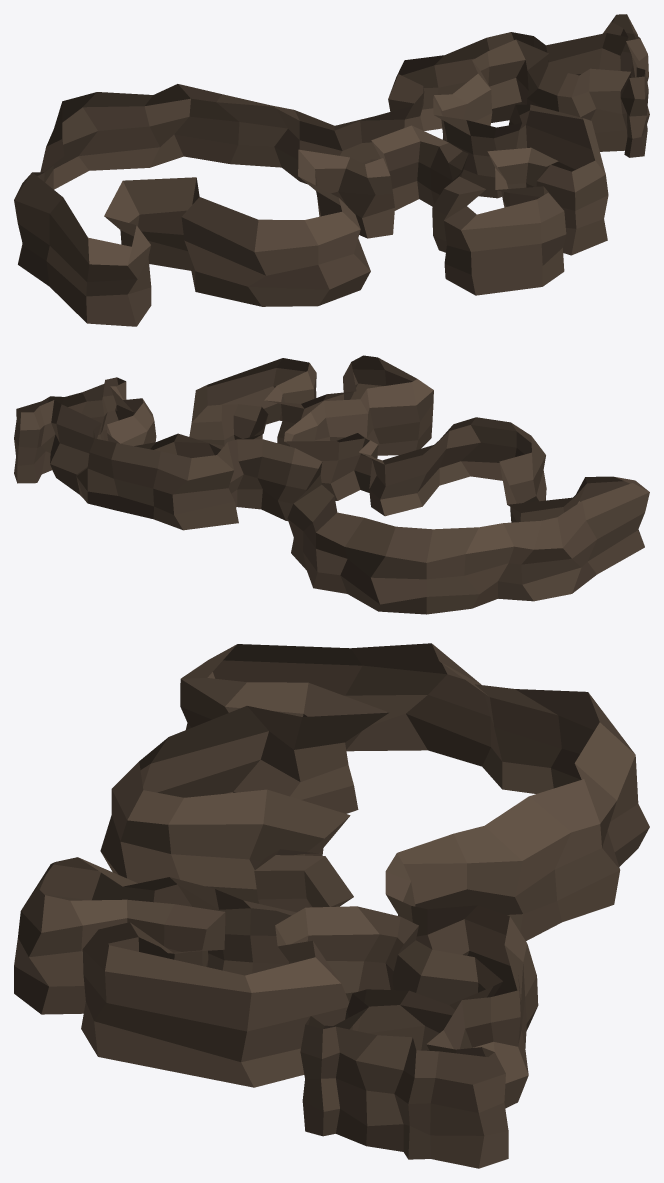
The model's file is map_1_walls.glb.
3 renders of one model, top to bottom at view 1: azimuth 30°, elevation 25°; view 2: azimuth 150°, elevation 25°; view 3: azimuth 270°, elevation 25°, orthographic. The views are drawn at different scales.
Visible parts, largest first — view 1: Walls; view 2: Walls; view 3: Walls.
Part boxes in pixels (<box>): Walls: <box>14,14,649,326</box>; Walls: <box>14,355,649,614</box>; Walls: <box>14,643,649,1168</box>.
Size of the model in its own units: 169 by 23.58 by 107.
